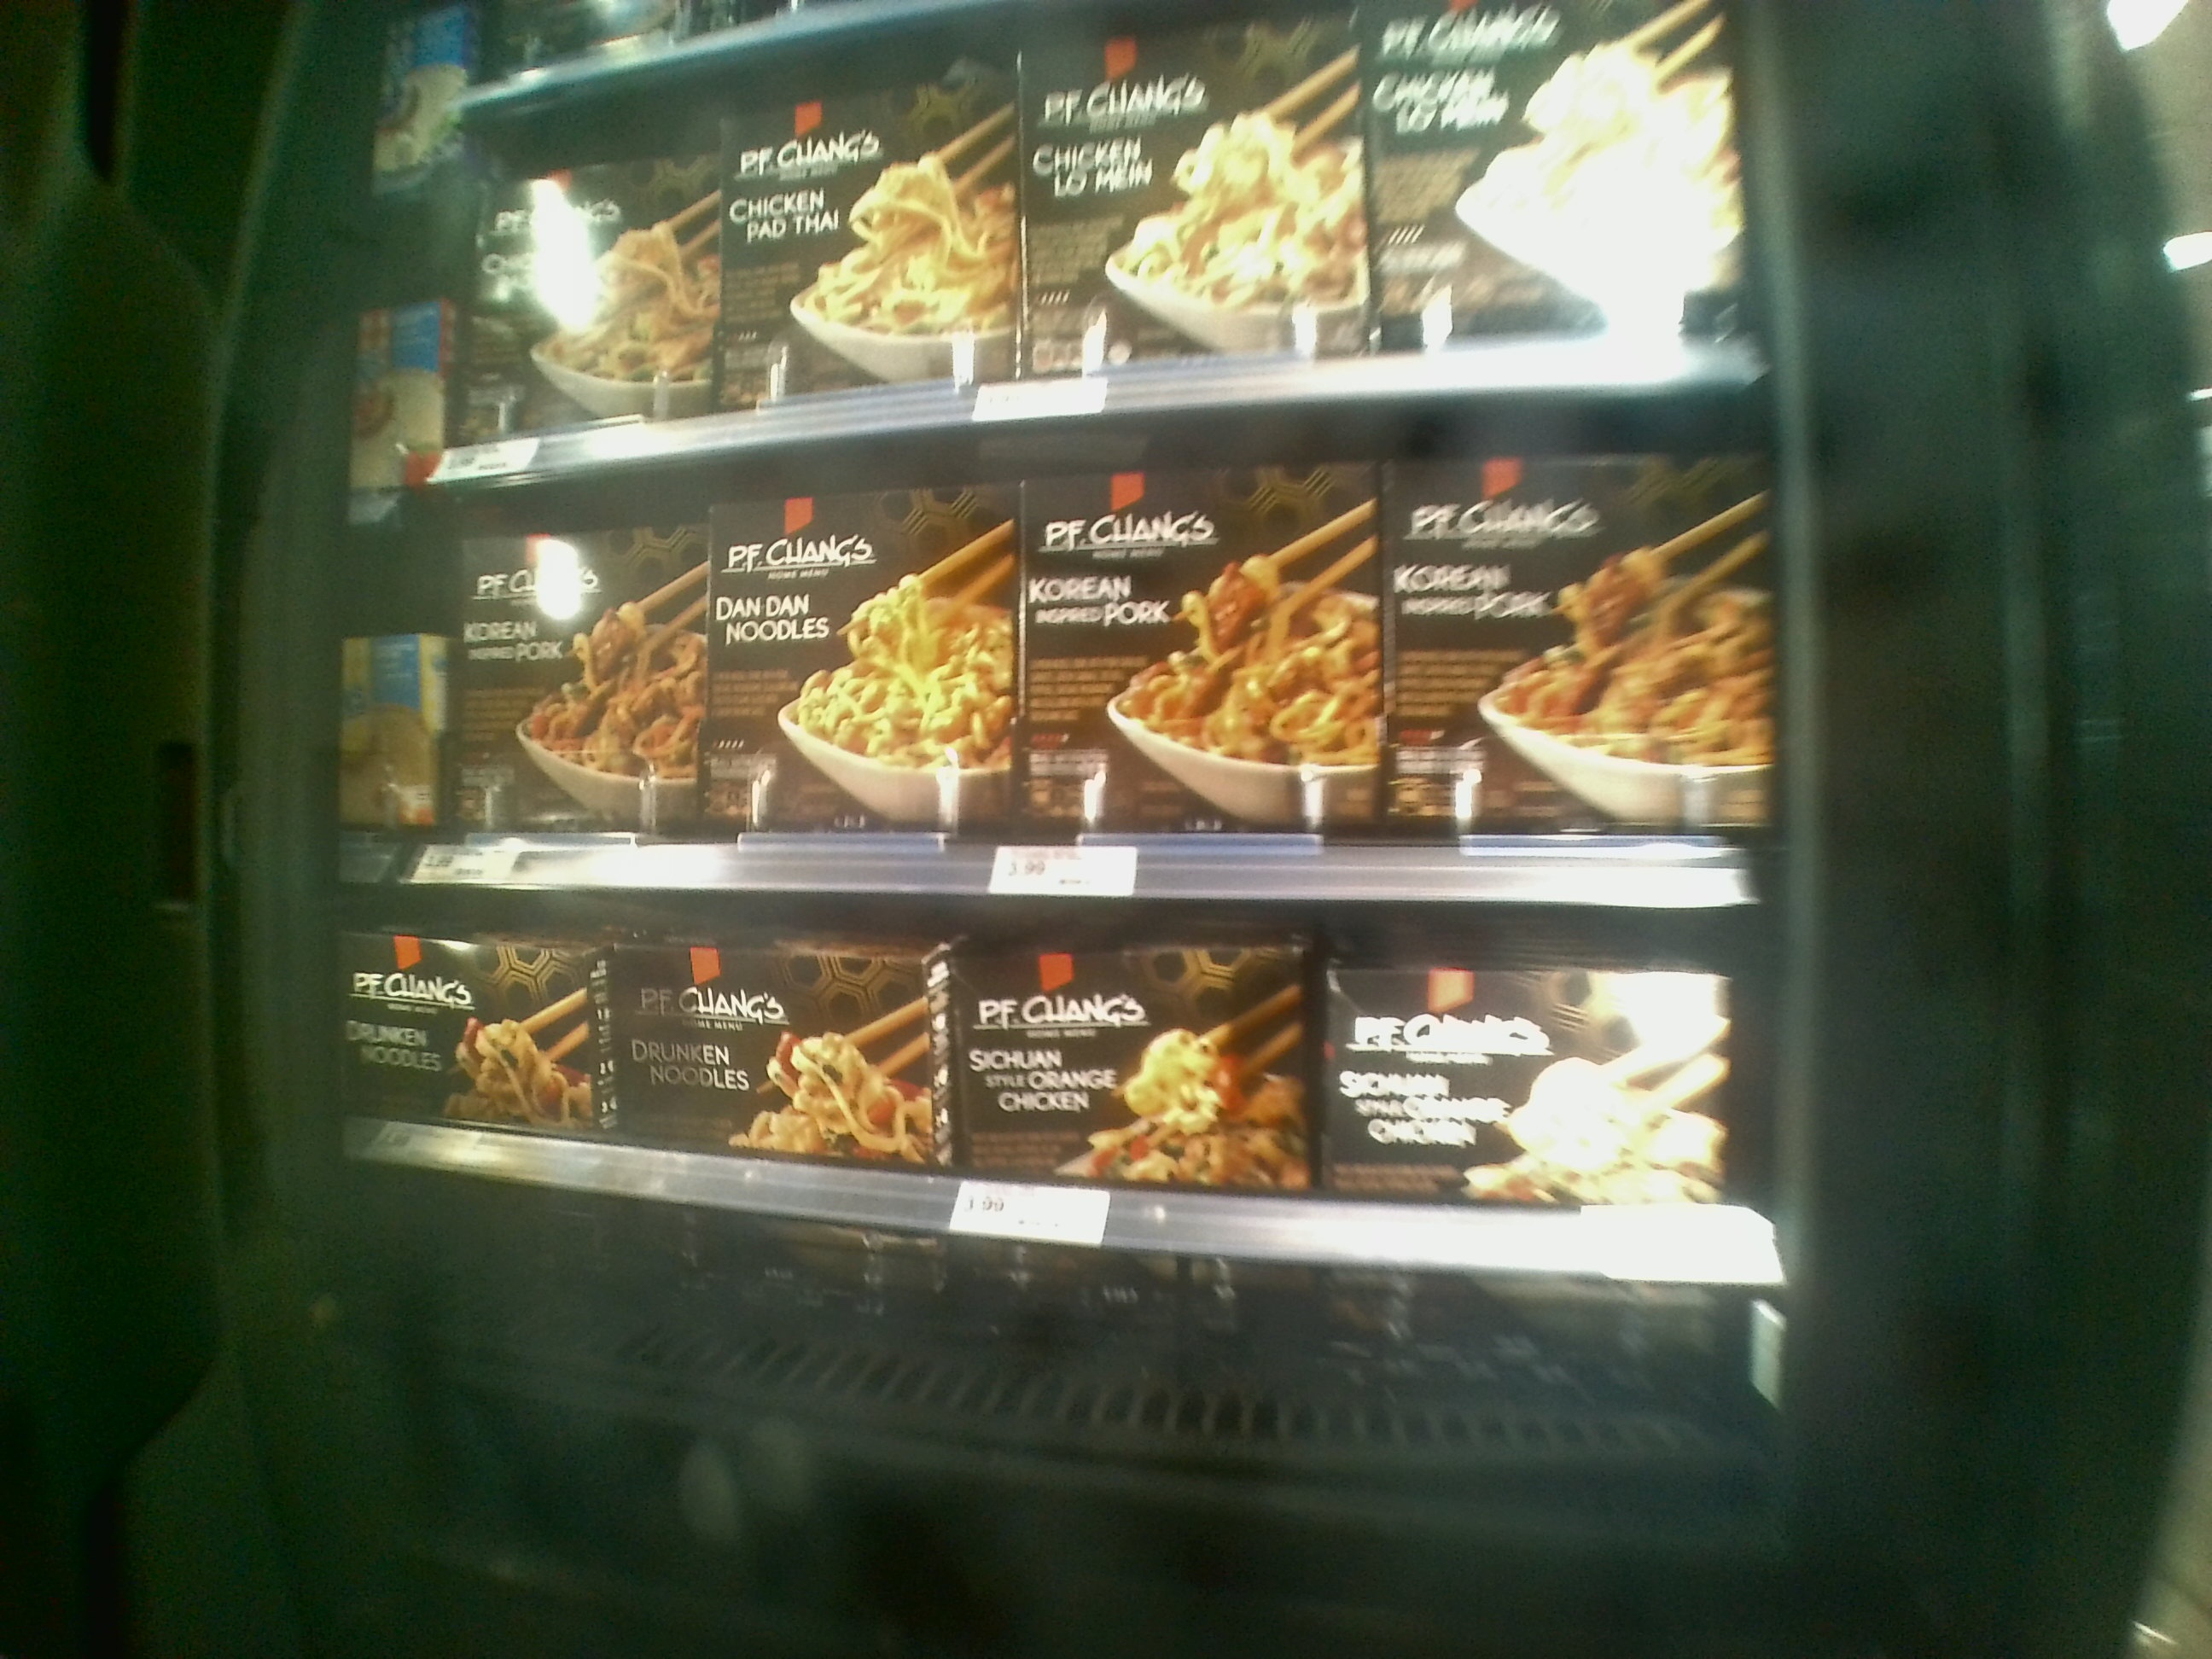shelf: (338, 884, 1827, 1286)
